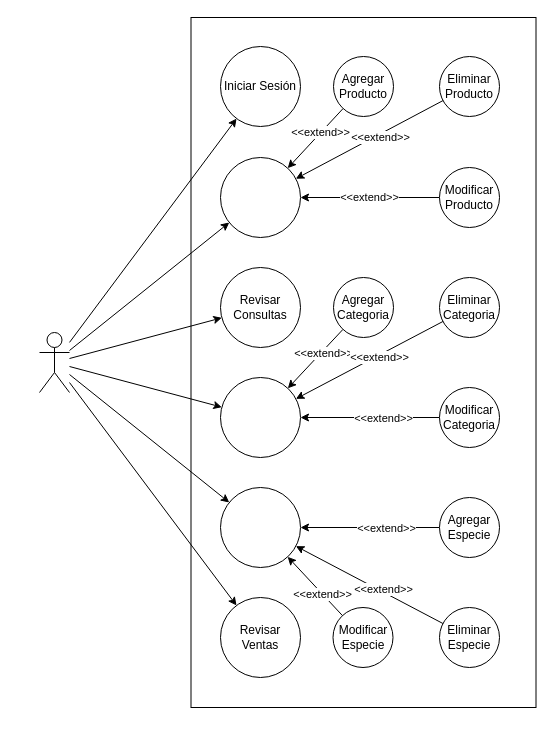
This 554x733 diagram has some shape labels left out. Each missing label, with the centre of its shape:
"Administrador" goes at point 54,362.
"Gestinar Categoria" goes at point 260,417.
"Gestionar Especie" goes at point 260,527.
"Gestionar Producto" goes at point 260,197.
